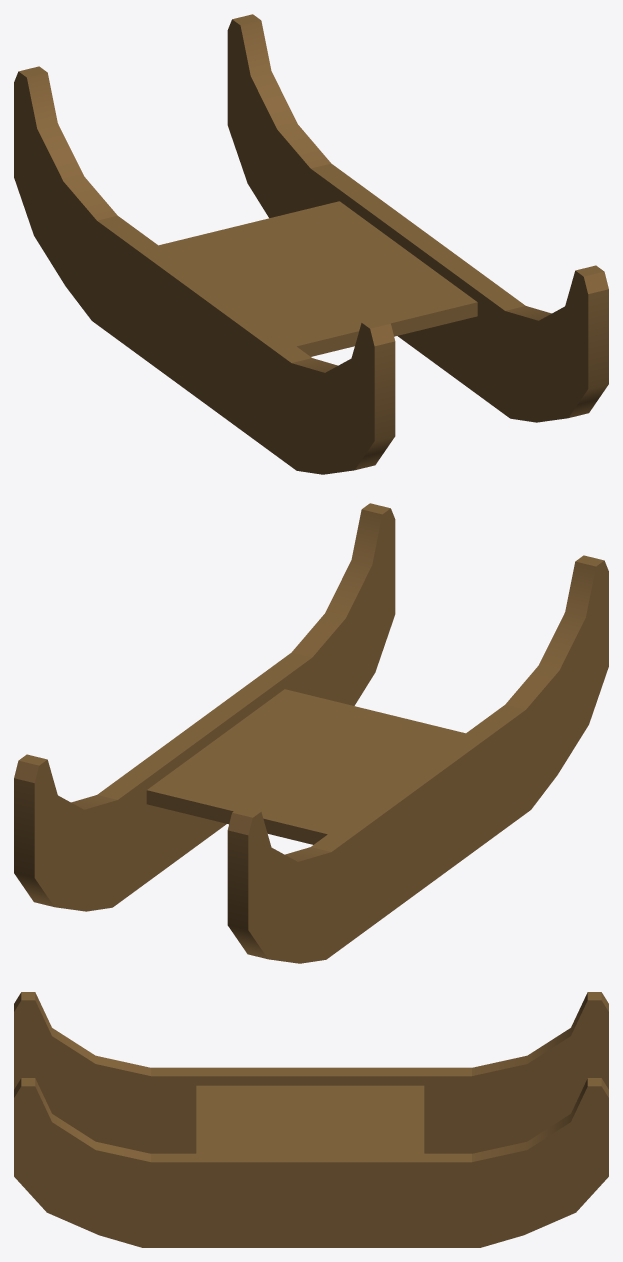
The model's file is LighterBoat.fbx.
The picture shows the model from 3 angles, top to bottom: view 1: azimuth 30°, elevation 25°; view 2: azimuth 150°, elevation 25°; view 3: azimuth 270°, elevation 25°; orthographic projection. The views are drawn at different scales.
Parts seen in each view (by area): view 1: pTorus28; view 2: pTorus28; view 3: pTorus28.
Part boxes in pixels (x1=…): pTorus28: x1=14, y1=14, x2=608, y2=474; pTorus28: x1=14, y1=503, x2=608, y2=963; pTorus28: x1=14, y1=992, x2=608, y2=1247.
Bounding box in the file's own units: 0.9808 × 0.7825 × 2.61.
